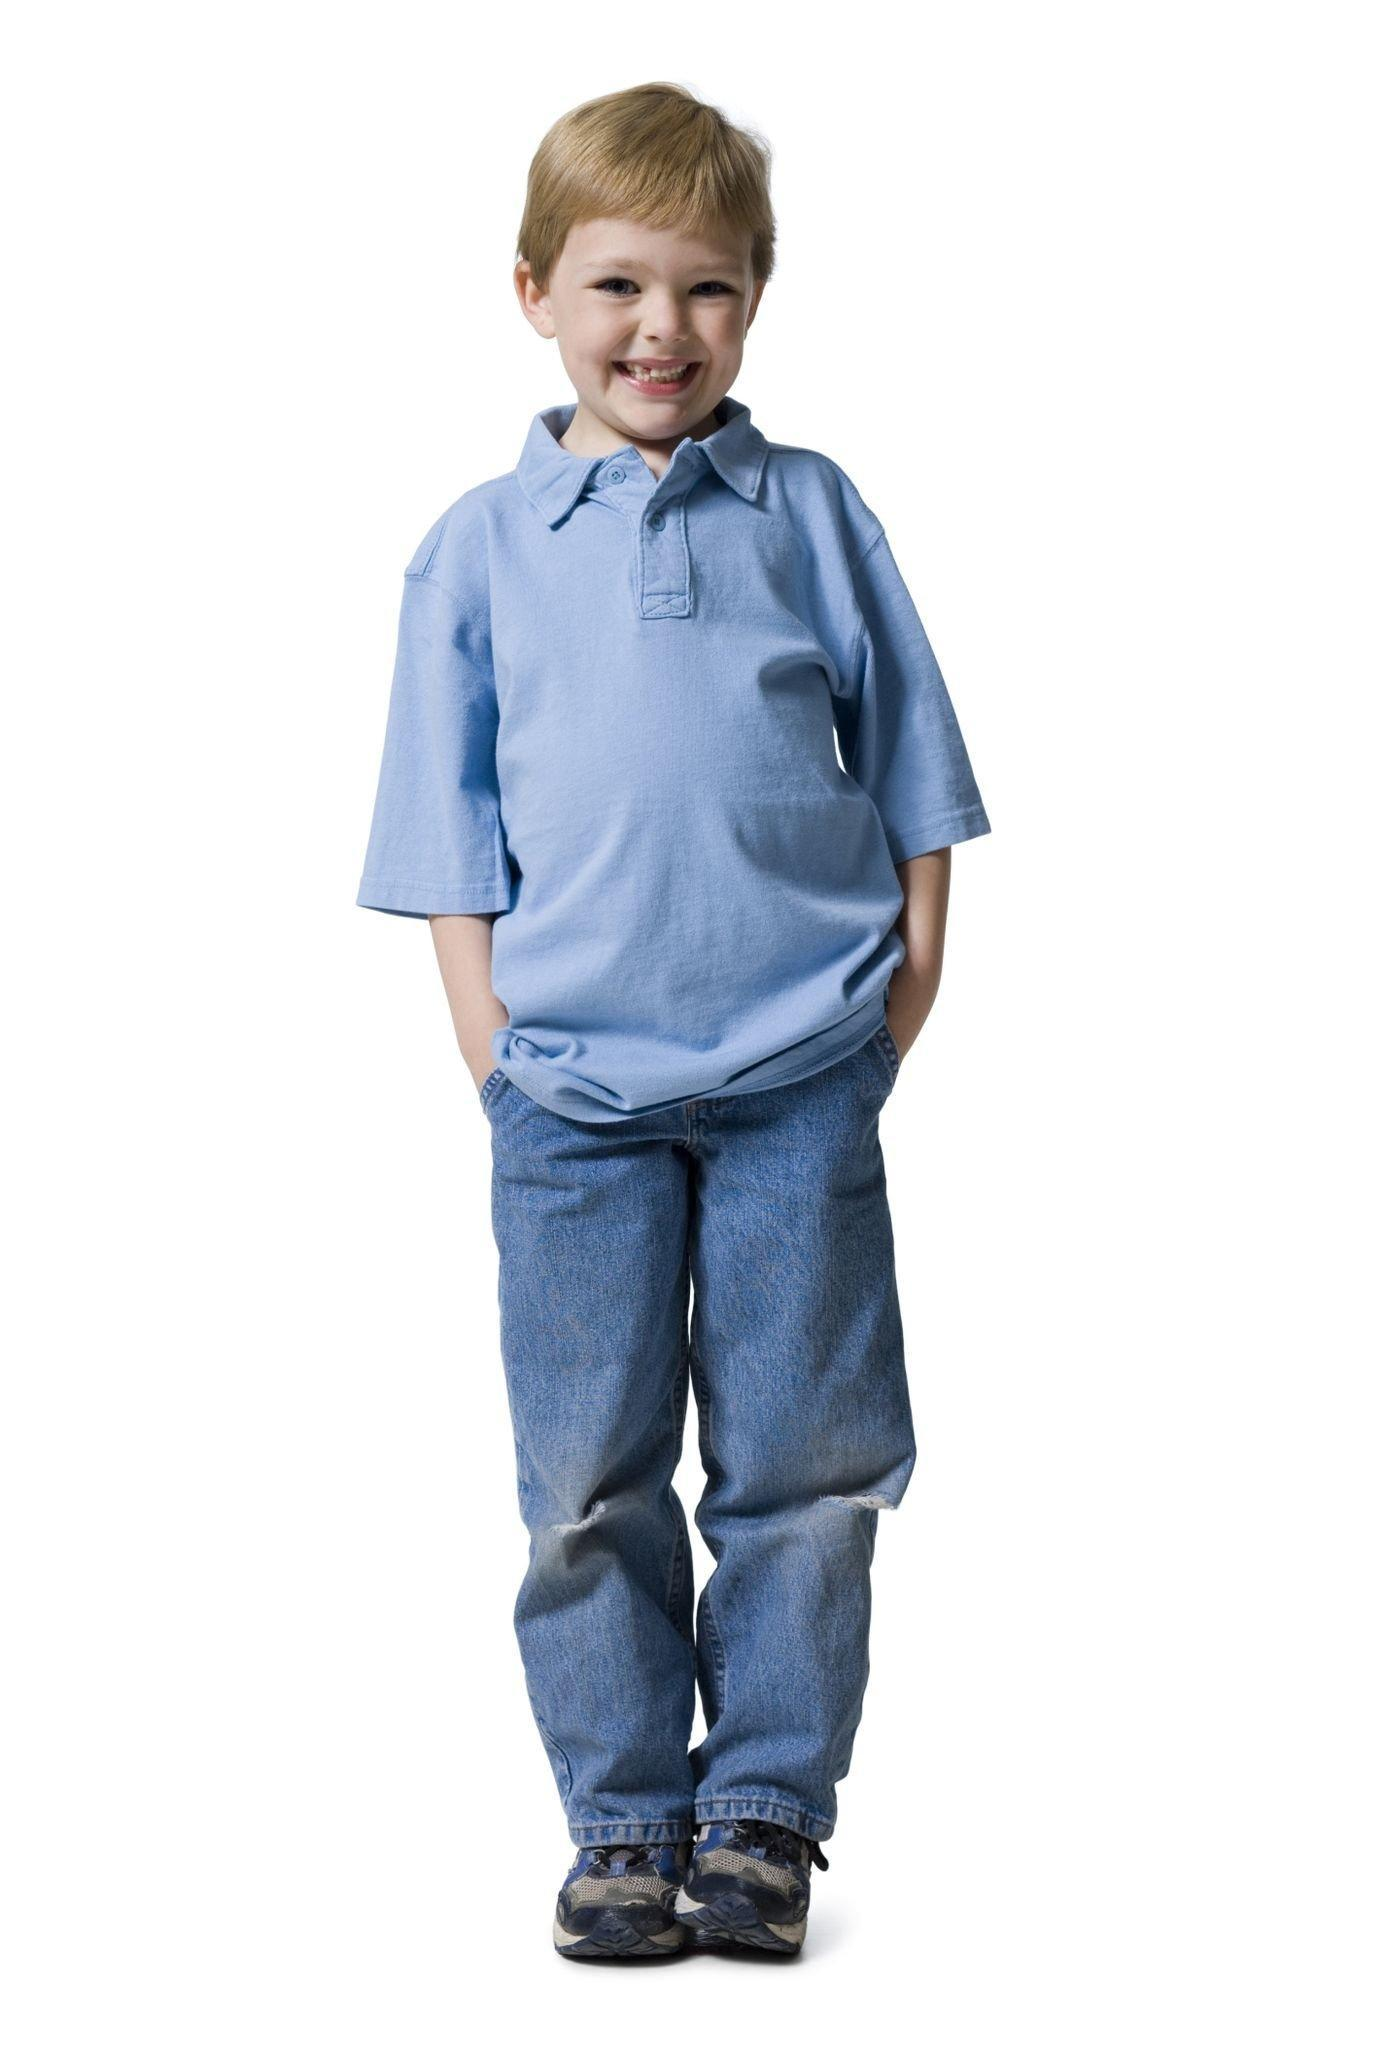Healthy: (521, 90, 780, 455)
